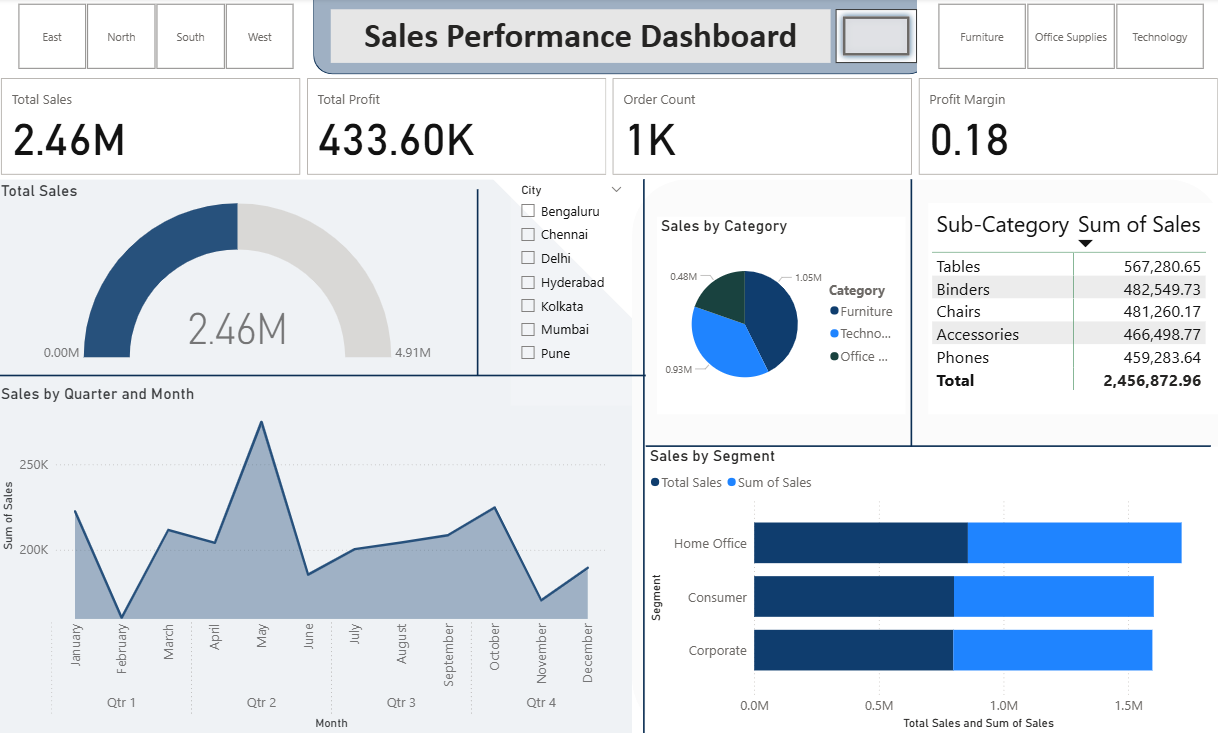

What the dashboard file says about the page in this screenshot:
{"tool":"powerbi","page":{"name":"Page 1","canvas":[1500,900],"ordinal":0},"visuals":[{"type":"cardVisual","fields":{"Data":["Order.Total Sales","Order.Total Profit","Order.Order Count","Order.Profit Margin"]},"box":[0,93.2,1499.5,128.4],"z":0},{"type":"shape","box":[386.7,0,752,93.2],"z":1000},{"type":"textbox","box":[408.1,13.8,611.4,65.7],"z":2000},{"type":"slicer","fields":{"Values":["Order.Region"]},"box":[0,0,386.7,93.2],"z":3000},{"type":"shape","box":[776.5,221.6,723,678.7],"z":4000},{"type":"pieChart","title":" Sales by Category","fields":{"Category":["Order.Category"],"Y":["Sum(Order.Sales)"]},"box":[807.1,267.5,304.2,241.5],"z":5000},{"type":"pivotTable","fields":{"Rows":["Order.Sub-Category"],"Values":["Sum(Order.Sales)"]},"box":[1138.8,250.7,359.2,258.3],"z":6000},{"type":"barChart","title":"Sales by Segment","fields":{"Category":["Customer_Data.Segment"],"Y":["Order.Total Sales","Sum(Order.Sales)"]},"box":[793.3,548.7,704.7,351.6],"z":7000},{"type":"shape","box":[793.3,528.9,690.9,38.2],"z":8000},{"type":"shape","box":[1111.2,221.6,13.8,327.1],"z":9000},{"type":"gauge","fields":{"Y":["Order.Total Sales"]},"box":[0,224.7,588.5,224.7],"z":10000},{"type":"areaChart","title":"Sales by Quarter and Month","fields":{"Category":["Order.OrderDate.Variation.Date Hierarchy.Quarter","Order.OrderDate.Variation.Date Hierarchy.Month"],"Y":["Sum(Order.Sales)"]},"box":[0,472.3,750.5,428],"z":11000},{"type":"shape","box":[0,221.6,776.5,678.7],"z":12000},{"type":"slicer","fields":{"Values":["Customer_Data.City"]},"box":[628.2,221.6,148.3,276.7],"z":13000},{"type":"slicer","fields":{"Values":["Order.Category"]},"box":[1125,0,374.5,93.2],"z":14000},{"type":"shape","box":[573.2,233.9,29,227.8],"z":15000},{"type":"shape","box":[0,450.9,793.3,21.4],"z":16000},{"type":"shape","box":[775,221.6,32.1,678.7],"z":18000},{"type":"actionButton","box":[1025.7,13.8,99.4,65.7],"z":18001}]}

Visuals, with their boxes in screenshot pixels (x1, y1, x2, y2), scaled from the page's 1500x900 canvas onto the 1218x733 screenshot:
cardVisual - Order.Total Sales x Order.Total Profit: [0, 76, 1217, 180]
shape: [314, 0, 925, 76]
textbox: [331, 11, 828, 65]
slicer - Order.Region: [0, 0, 314, 76]
shape: [631, 180, 1217, 732]
" Sales by Category" pieChart: [655, 218, 902, 415]
pivotTable - Order.Sub-Category x Sum(Order.Sales): [925, 204, 1216, 415]
"Sales by Segment" barChart: [644, 447, 1216, 732]
shape: [644, 431, 1205, 462]
shape: [902, 180, 914, 447]
gauge - Order.Total Sales: [0, 183, 478, 366]
"Sales by Quarter and Month" areaChart: [0, 385, 609, 732]
shape: [0, 180, 631, 732]
slicer - Customer_Data.City: [510, 180, 631, 406]
slicer - Order.Category: [914, 0, 1217, 76]
shape: [465, 190, 489, 376]
shape: [0, 367, 644, 385]
shape: [629, 180, 655, 732]
actionButton: [833, 11, 914, 65]
